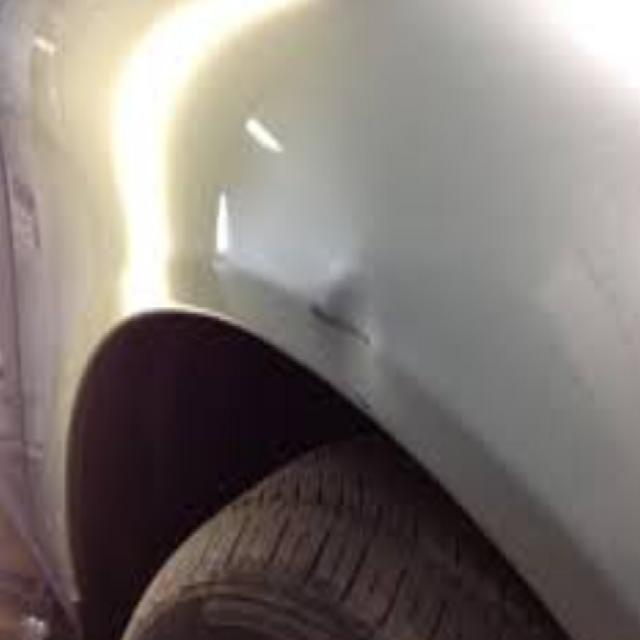dents: (304, 265, 409, 404)
